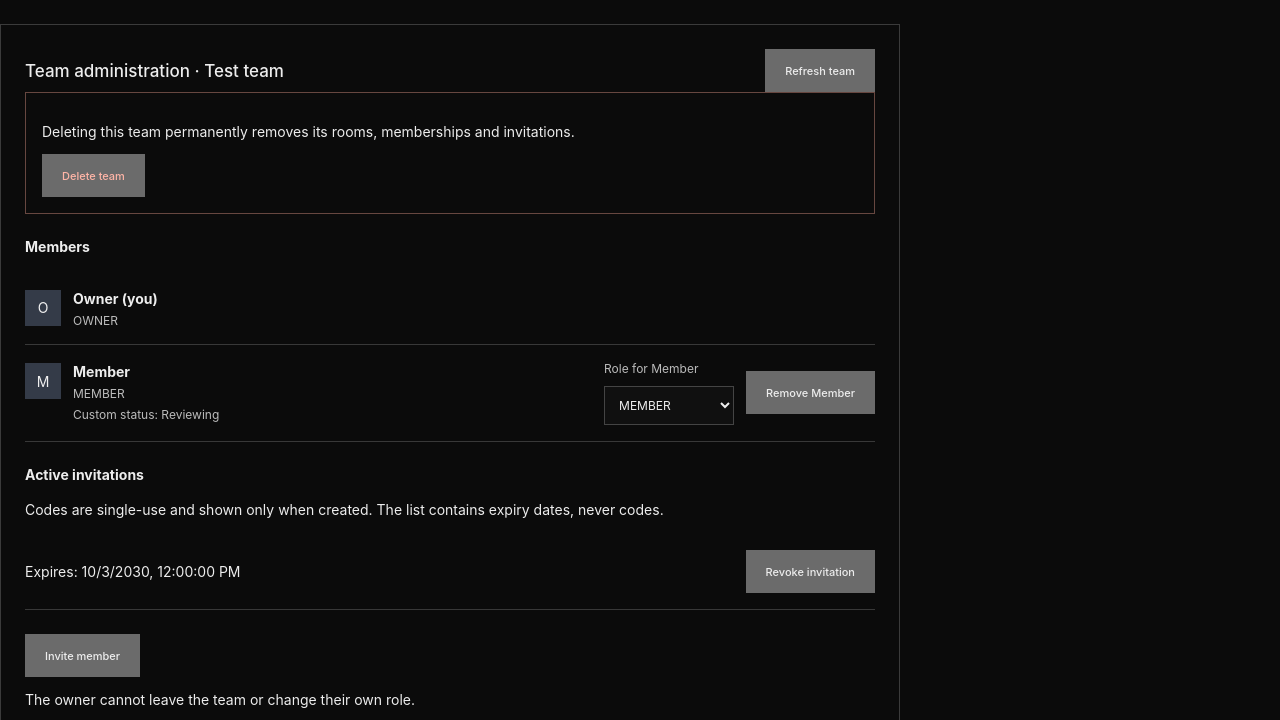
reports clipboard success only after completion and selects the code on failure
Expected: the button "Refresh team" is enabled, [765,49,875,92]
Click the button "Invite member" at (83, 656), box [25,634,140,677]
(page scrolled)
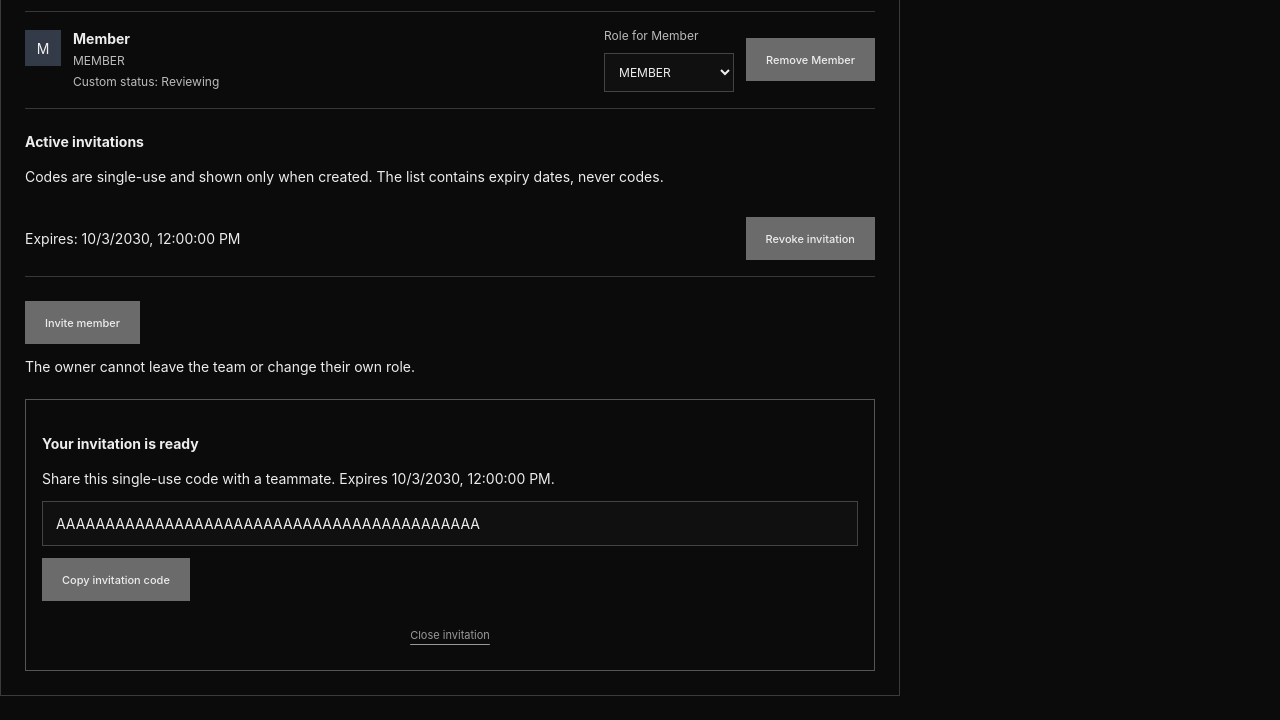
Click the button "Copy invitation code" at (116, 580), box [42,558,190,601]
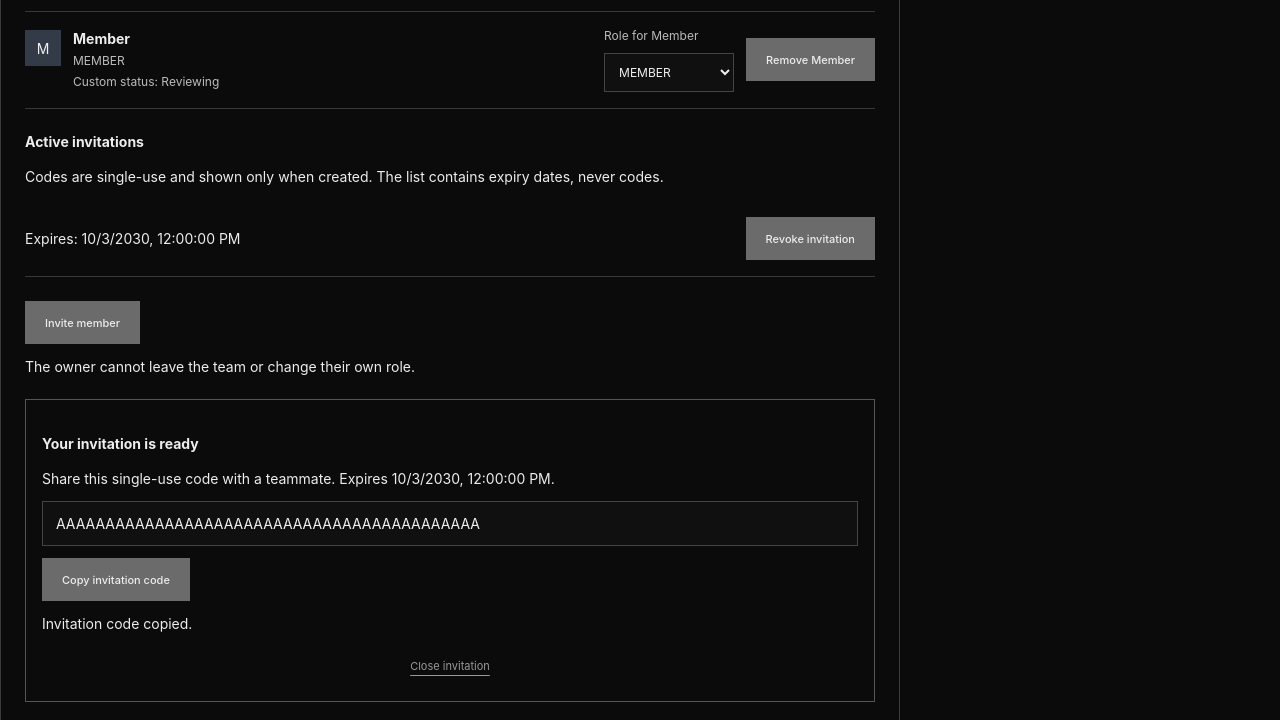
Expected: the message reads "Invitation code copied.", [42,615,192,632]
Click the button "Copy invitation code" at (116, 580), box [42,558,190,601]
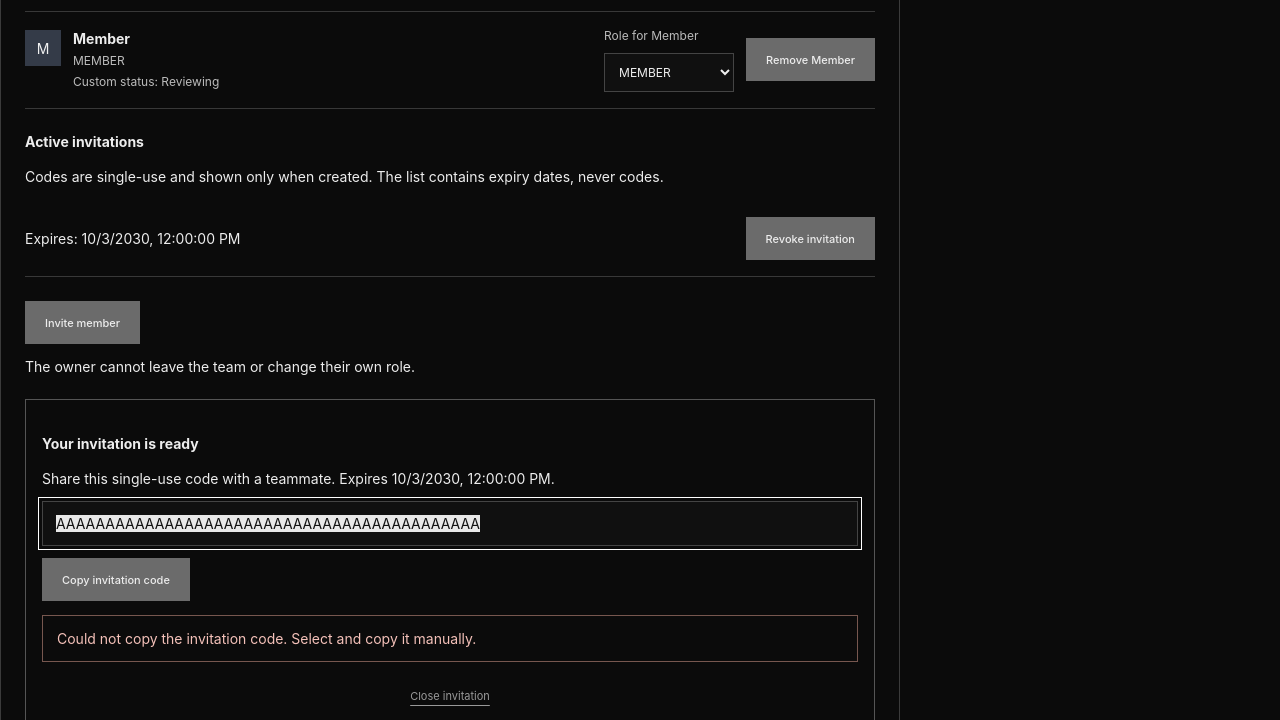
Expected: the text "Could not copy the invitation code. Select and copy it manually." is shown, [42,615,858,662]
Expected: the text "Invitation code copied." is gone
